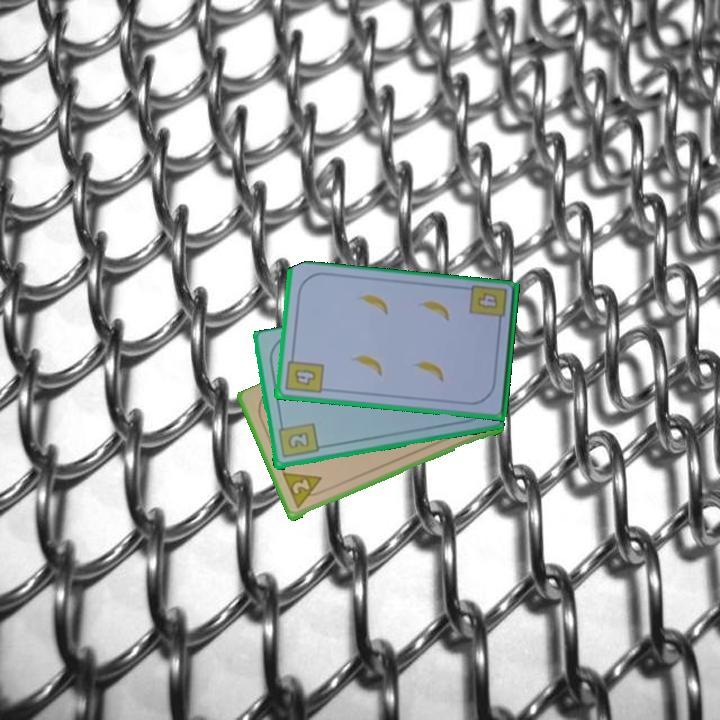2b: (274, 419, 321, 461)
2p: (279, 469, 329, 512)
4b: (281, 351, 326, 396), (473, 289, 501, 312)
